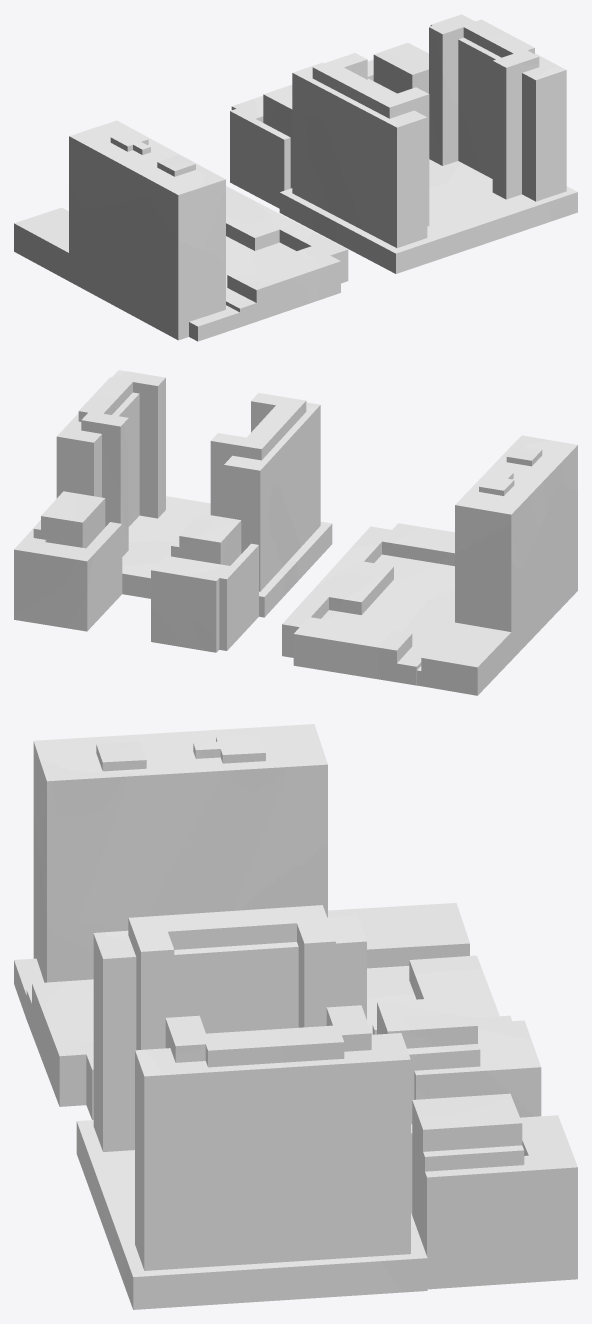
File: IDL_Etape6.dae
3 renders of one model, top to bottom at view 1: azimuth 30°, elevation 25°; view 2: azimuth 150°, elevation 25°; view 3: azimuth 270°, elevation 25°, orthographic. The views are drawn at different scales.
Parts seen in each view (by area): view 1: Batis; view 2: Batis; view 3: Batis.
Part boxes in pixels (x1=…): Batis: x1=14, y1=14, x2=577, y2=341; Batis: x1=14, y1=370, x2=577, y2=695; Batis: x1=14, y1=724, x2=577, y2=1309.
Size of the model in its own units: 327 by 215 by 103.
1 material, 1 textured.
